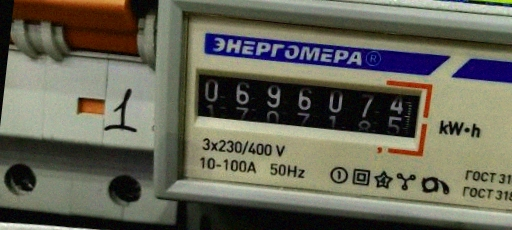0: (200, 76, 220, 103), (325, 87, 344, 114)
4: (388, 93, 404, 115)
5: (385, 115, 401, 135)
6: (294, 83, 313, 112), (231, 78, 251, 105)
7: (356, 91, 375, 119)
9: (262, 82, 282, 109)
screen: (182, 54, 435, 158)
